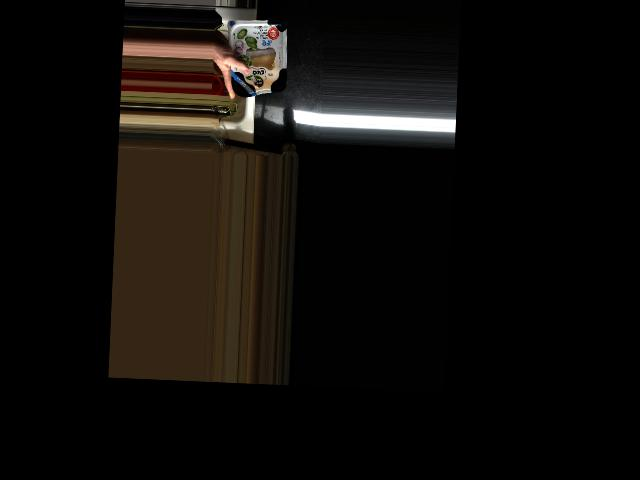cheese: (225, 21, 288, 99)
